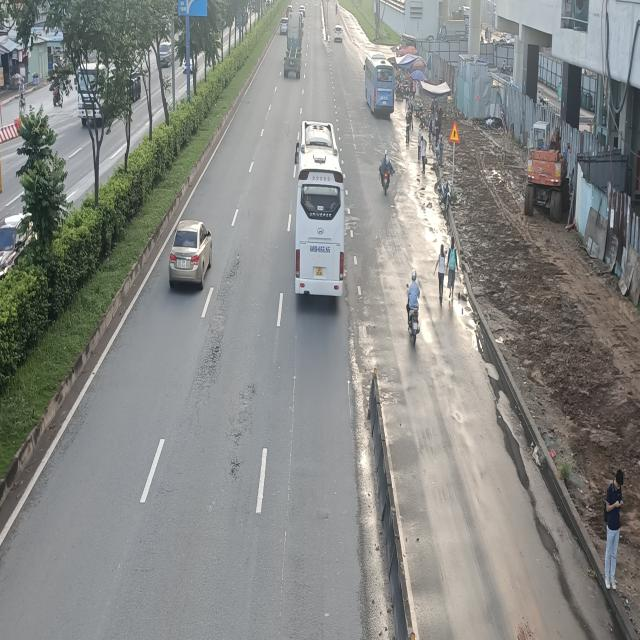car: (170, 222, 214, 292)
coach: (292, 122, 346, 302), (362, 49, 394, 114)
container: (285, 8, 303, 77)
